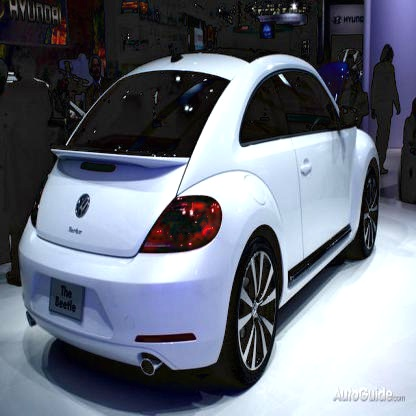Vehicle: (19, 48, 380, 390)
